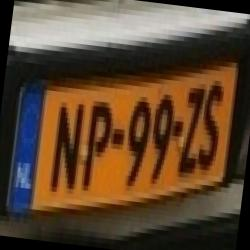LicensePlate: (5, 64, 244, 234)
